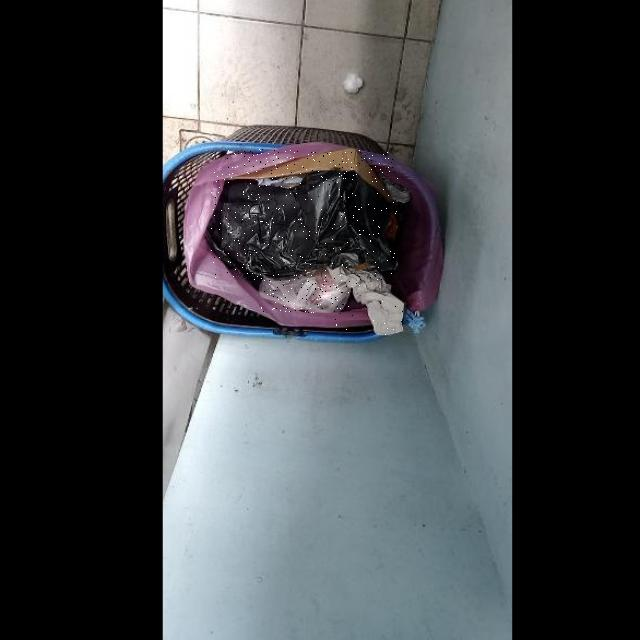paper: (227, 149, 394, 202), (327, 261, 405, 335)
plastic: (211, 169, 398, 279), (259, 266, 351, 312)
